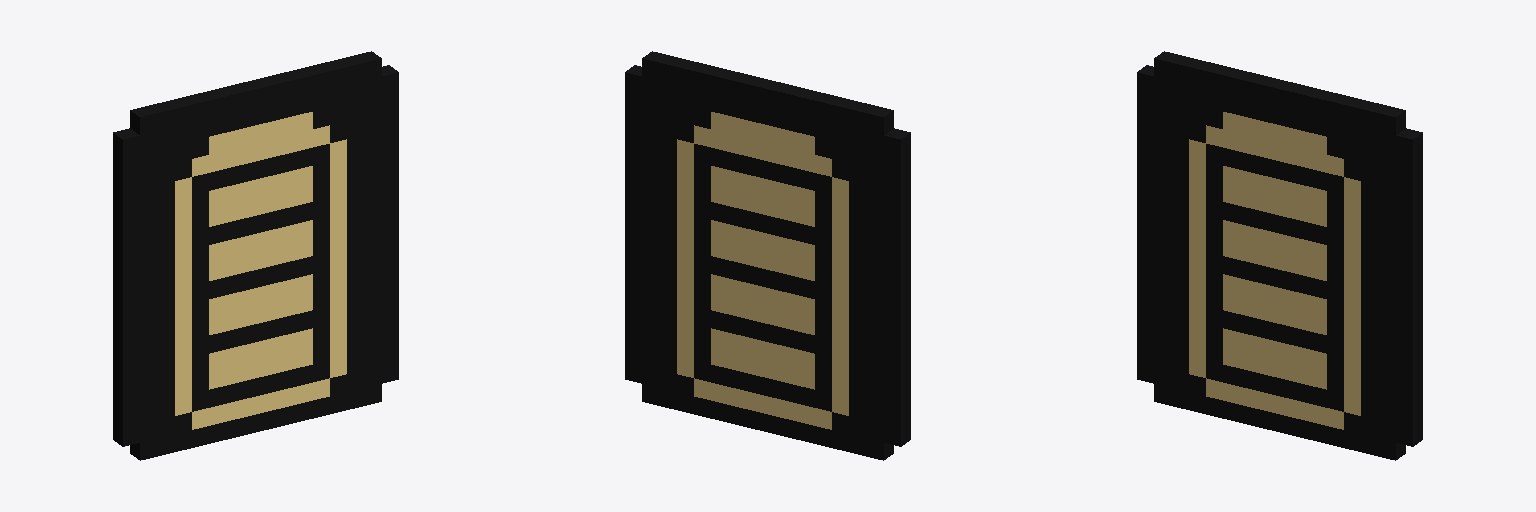
The picture shows the model from 3 angles: view 1: azimuth 30°, elevation 25°; view 2: azimuth 150°, elevation 25°; view 3: azimuth 330°, elevation 25°; orthographic projection.
Parts seen in each view (by area): view 1: object 1; view 2: object 1; view 3: object 1.
Boxes of the visible parts, x1=… form: object 1: x1=113, y1=51, x2=398, y2=460; object 1: x1=625, y1=51, x2=910, y2=460; object 1: x1=1137, y1=51, x2=1422, y2=460.
Bounding box in the file's own units: 1.6 × 1.9 × 0.1.
1 materials, 1 textured.